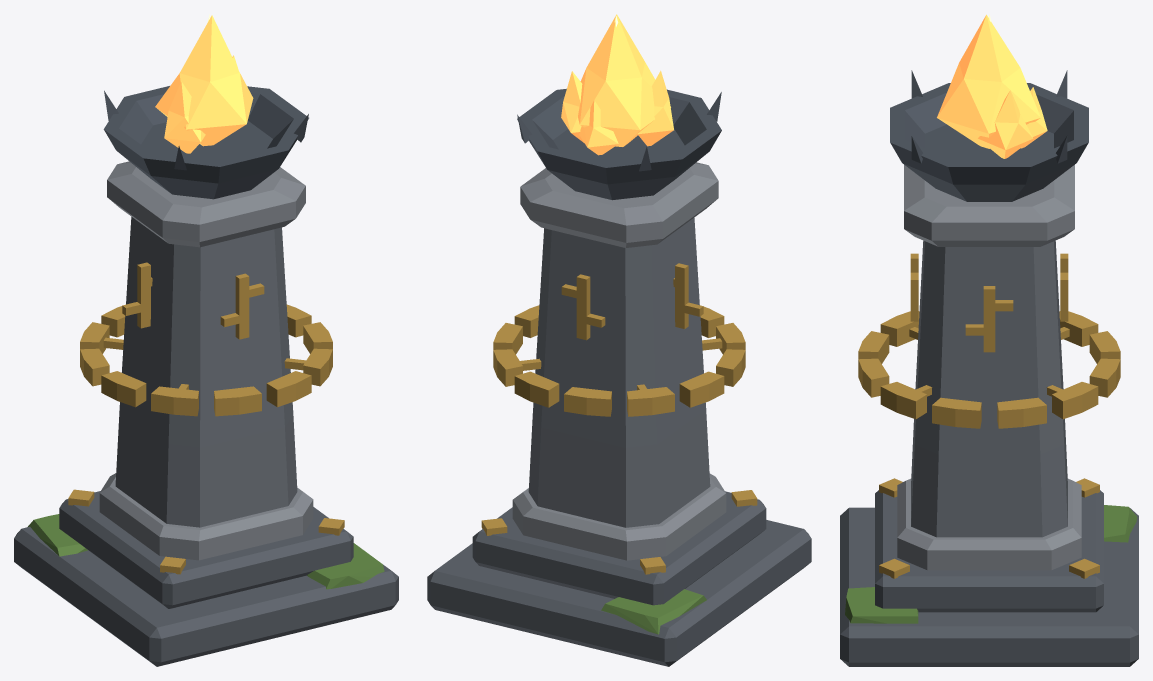
Rendered from Challenge_Brazier.fbx.
3 renders of one model, left to right at view 1: azimuth 30°, elevation 25°; view 2: azimuth 150°, elevation 25°; view 3: azimuth 270°, elevation 25°, orthographic. The views are drawn at different scales.
Visible parts, largest first — view 1: Shaft, Plinth, Trim, Runes, Bowl, Flame, Moss; view 2: Shaft, Plinth, Trim, Runes, Bowl, Flame, Moss; view 3: Shaft, Plinth, Trim, Runes, Bowl, Flame, Moss.
Boxes of the visible parts, box(x1,y1,x2,y2) form: Shaft: box(115, 217, 297, 527); Plinth: box(14, 491, 398, 666); Trim: box(99, 161, 313, 560); Runes: box(68, 262, 344, 574); Bowl: box(103, 86, 308, 199); Flame: box(155, 15, 253, 153); Moss: box(27, 514, 384, 589); Shaft: box(528, 217, 710, 527); Plinth: box(427, 491, 811, 666); Trim: box(512, 162, 726, 560); Runes: box(481, 263, 757, 574); Bowl: box(517, 88, 721, 200); Flame: box(561, 14, 673, 155); Moss: box(601, 589, 706, 634); Shaft: box(911, 240, 1067, 537); Plinth: box(840, 490, 1138, 666); Trim: box(897, 165, 1081, 570); Runes: box(858, 253, 1120, 578); Bowl: box(890, 70, 1088, 201); Flame: box(937, 14, 1047, 158); Moss: box(845, 505, 1137, 623).
Bounding box in the file's own units: 3 × 6.6 × 3.
